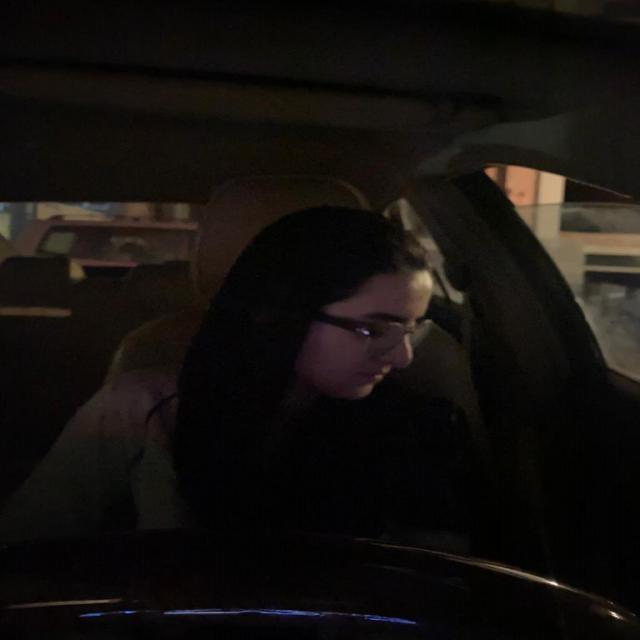drowsy: (276, 212, 430, 416)
